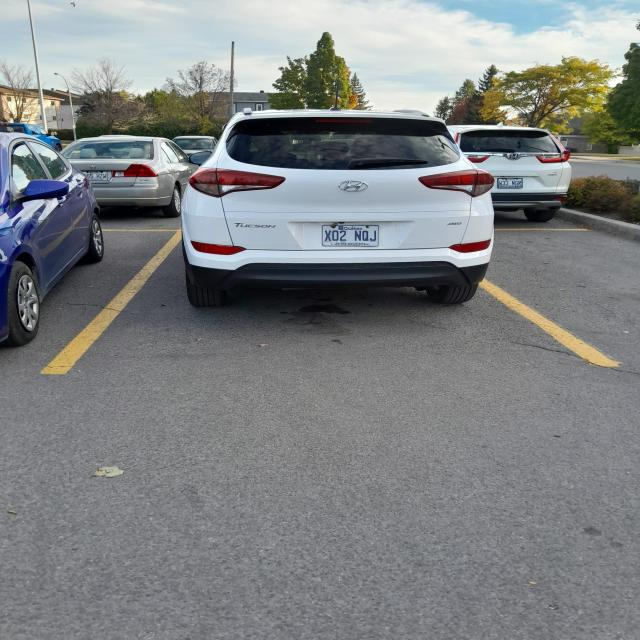plaque: (322, 225, 378, 246), (86, 171, 109, 182), (497, 178, 522, 188)
